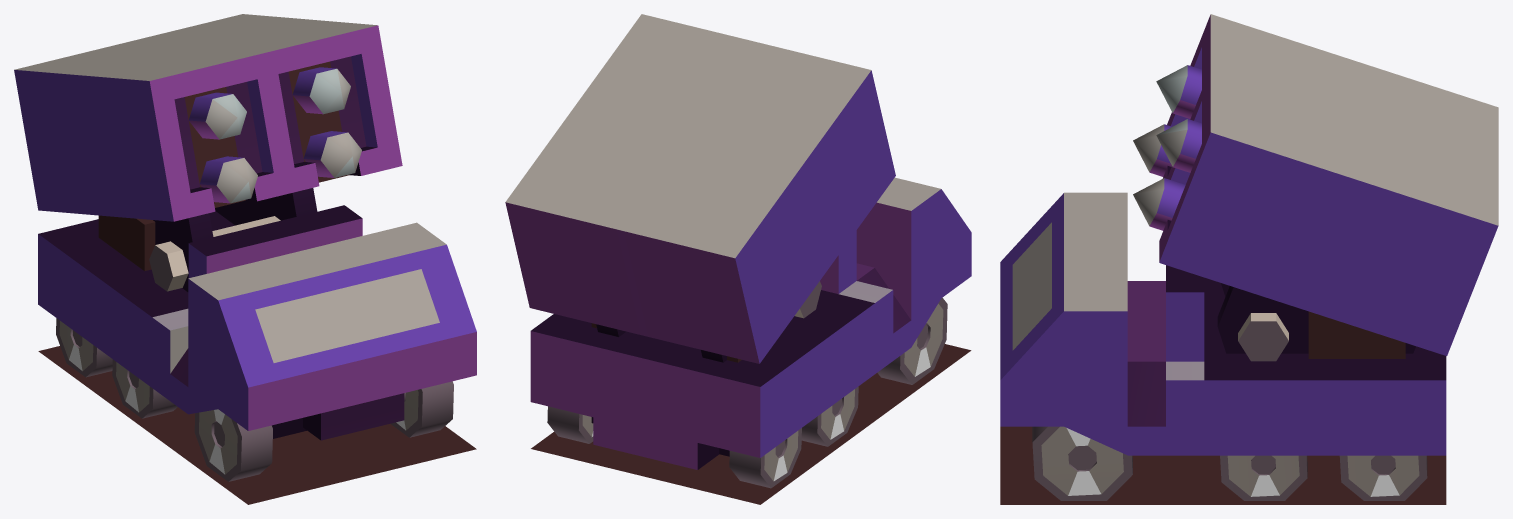
Rendered from RocketMesh.BlackHole.glb.
3 renders of one model, left to right at view 1: azimuth 30°, elevation 25°; view 2: azimuth 150°, elevation 25°; view 3: azimuth 270°, elevation 25°, orthographic. The views are drawn at different scales.
Parts seen in each view (by area): view 1: RocketMesh.BlackHole; view 2: RocketMesh.BlackHole; view 3: RocketMesh.BlackHole.
Boxes of the visible parts, x1,y1,x2,y2 form: RocketMesh.BlackHole: (14,14,476,504); RocketMesh.BlackHole: (505,14,971,504); RocketMesh.BlackHole: (1000,14,1498,504).
Bounding box in the file's own units: 1.1 × 1.63 × 1.96.
1 material, 1 textured.
